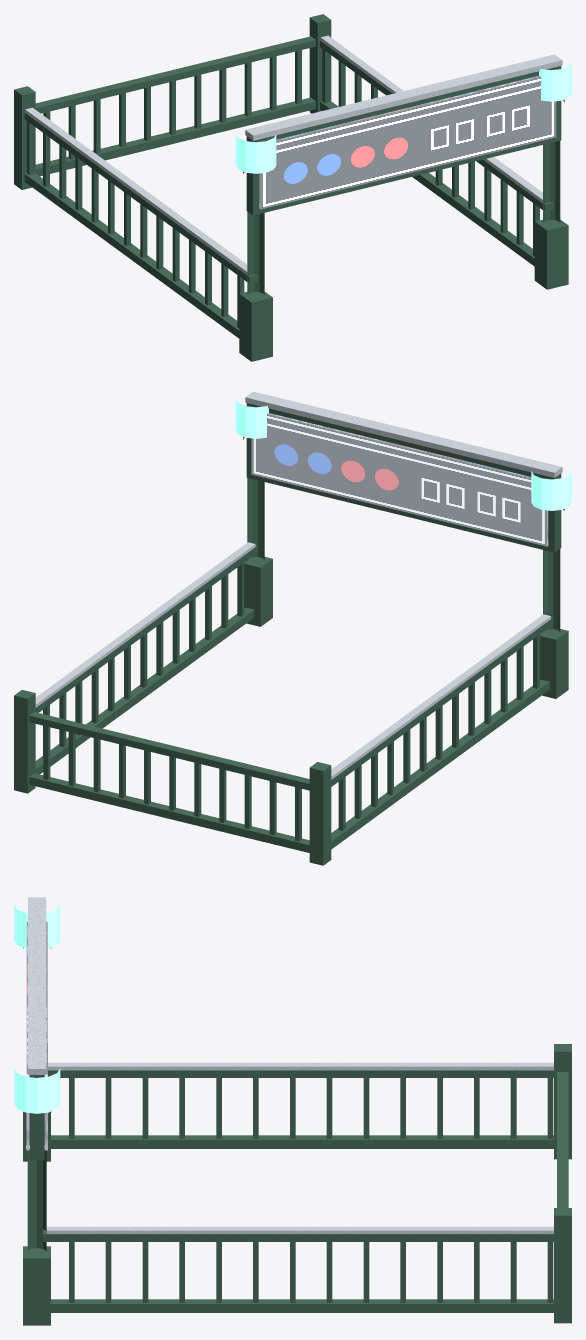
File: nyc_subway_entrance.glb
The picture shows the model from 3 angles, top to bottom: view 1: azimuth 30°, elevation 25°; view 2: azimuth 150°, elevation 25°; view 3: azimuth 270°, elevation 25°; orthographic projection. The views are drawn at different scales.
Visible parts, largest first — view 1: nyc_subway_entrance.glb; view 2: nyc_subway_entrance.glb; view 3: nyc_subway_entrance.glb.
Boxes of the visible parts, bbox=[...] form: nyc_subway_entrance.glb: bbox=[14, 14, 571, 361]; nyc_subway_entrance.glb: bbox=[14, 391, 571, 865]; nyc_subway_entrance.glb: bbox=[14, 897, 571, 1325].
Size of the model in its own units: 5.26 by 3.4 by 6.76.
Materials: 4 (2 with a texture image).
